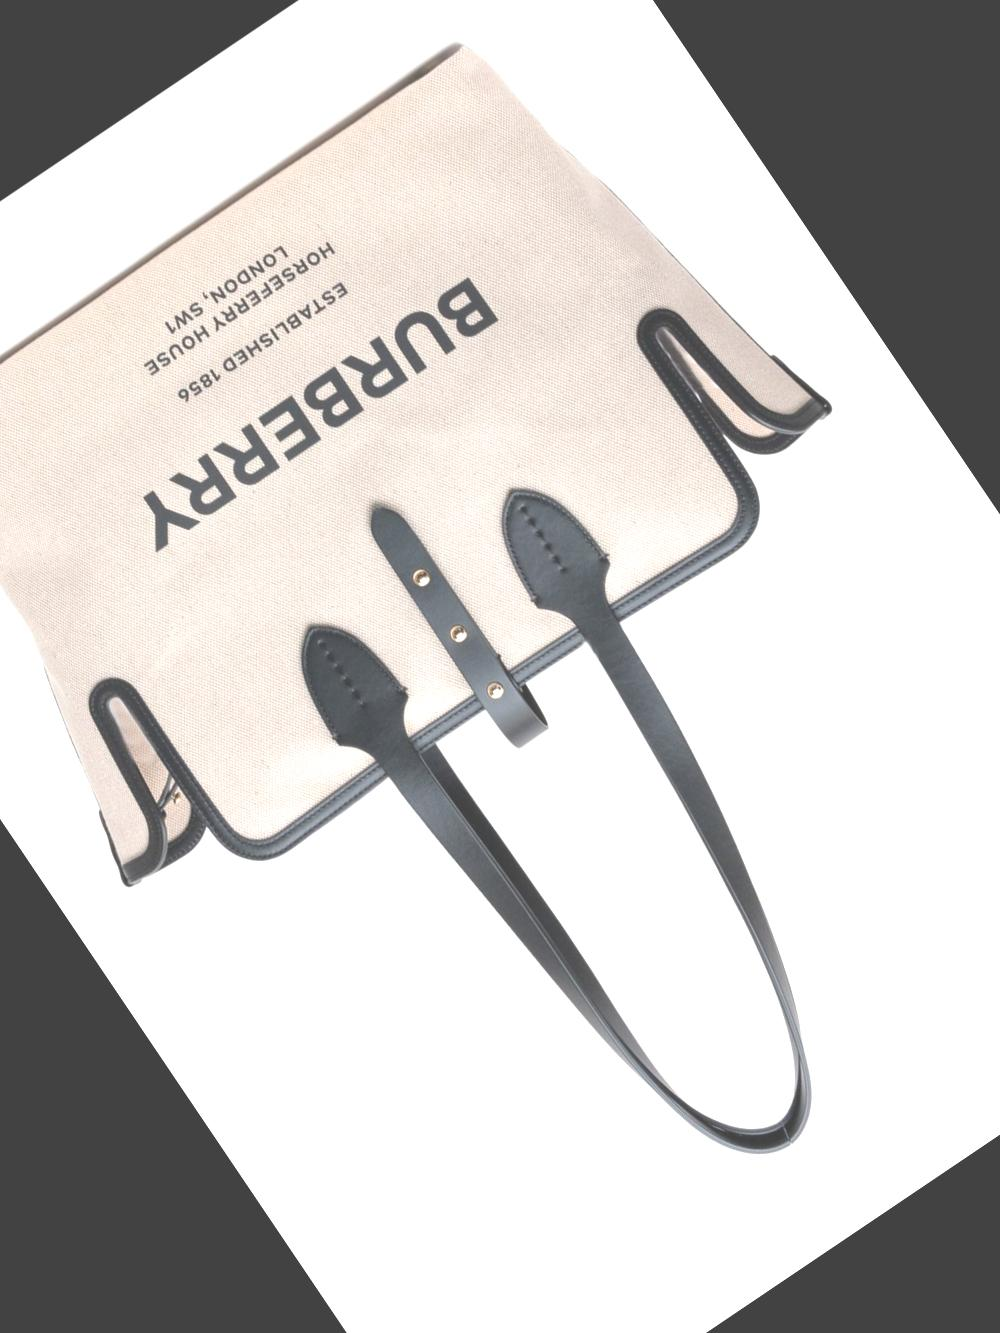BURBERRY: (124, 274, 499, 553)
